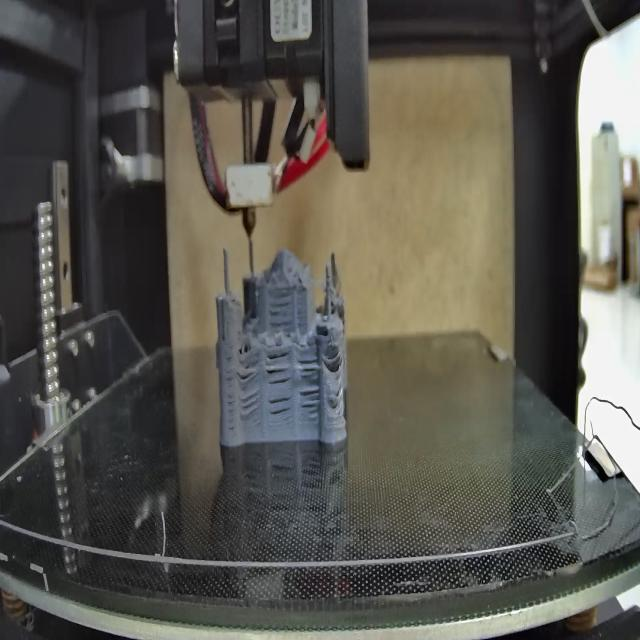cracks: (296, 354, 320, 422), (268, 289, 293, 326), (266, 350, 292, 385), (268, 388, 293, 422), (225, 347, 235, 431), (238, 355, 259, 389), (324, 378, 344, 412), (239, 391, 260, 418), (327, 342, 345, 373)
